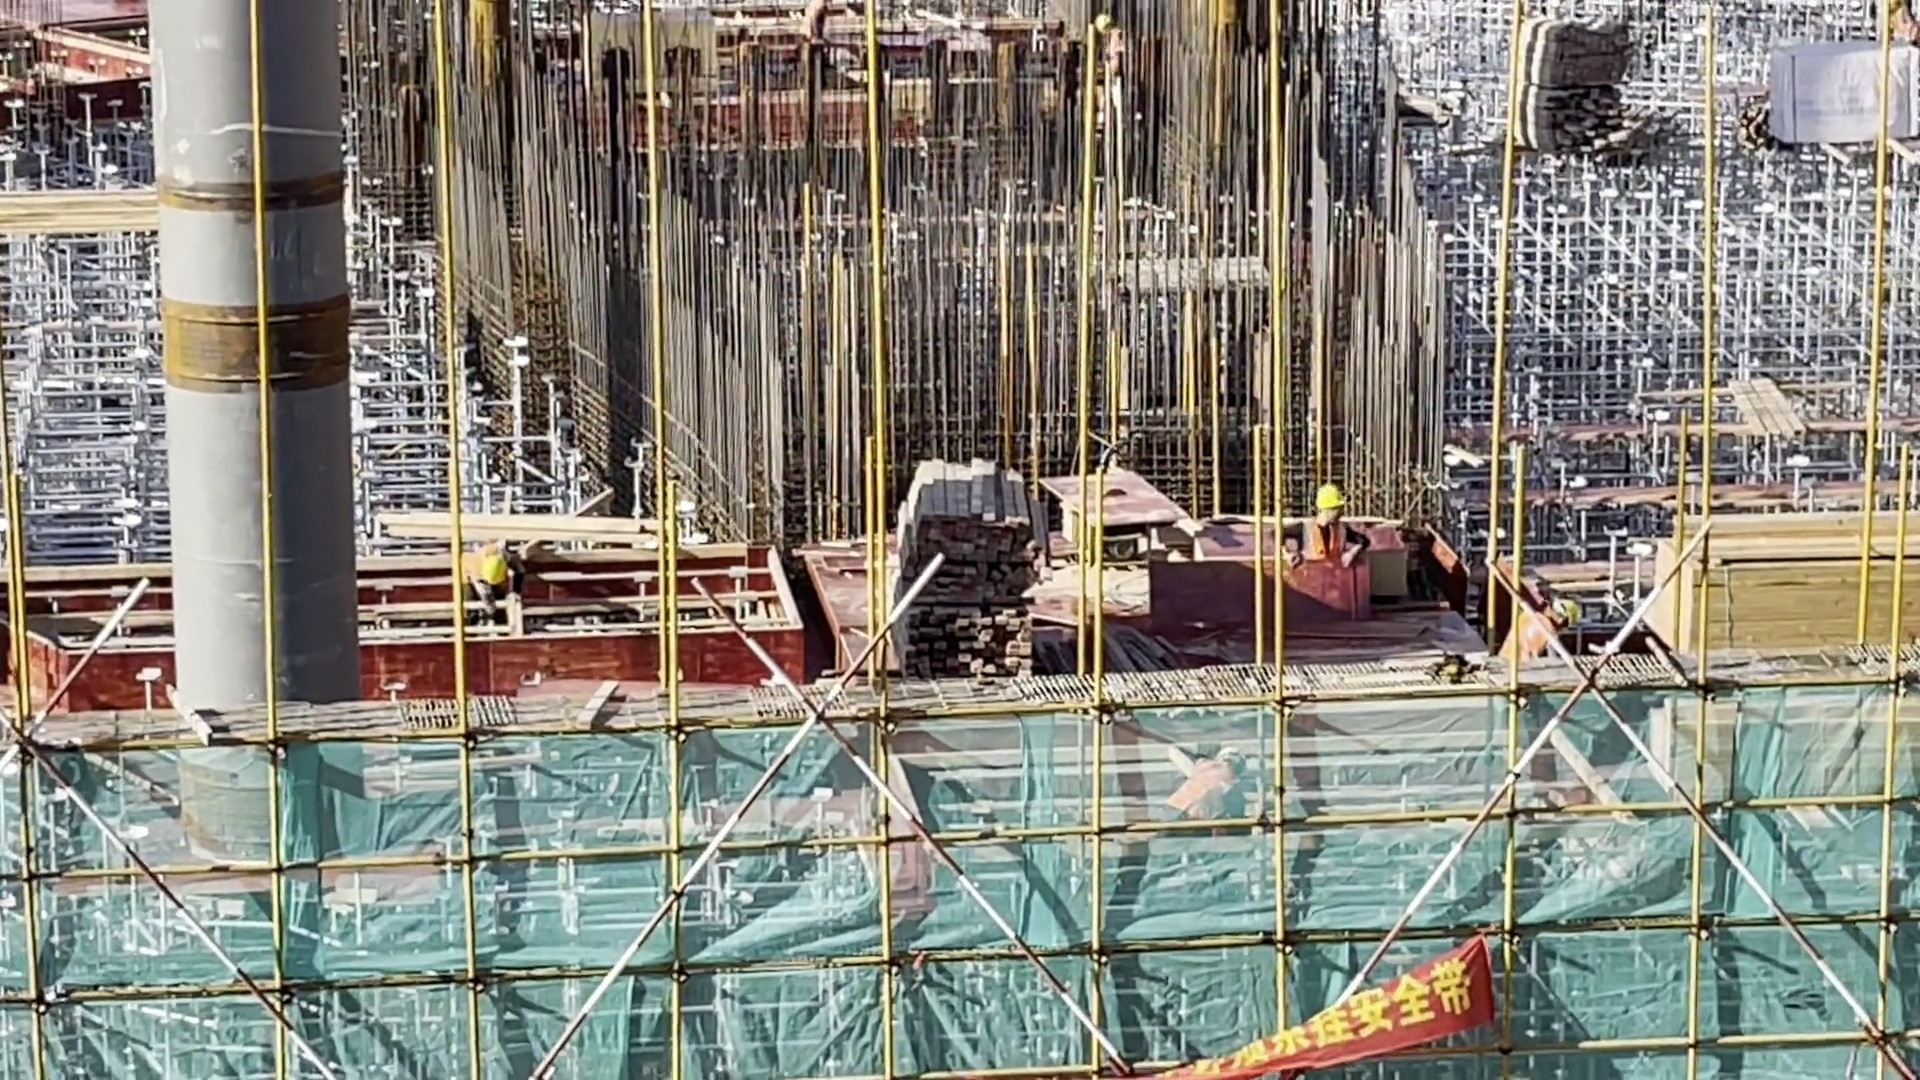helmet: (1311, 478, 1354, 515), (477, 552, 510, 589)
person: (1270, 475, 1374, 580), (459, 537, 517, 617)
slogan: (1146, 935, 1536, 1080)
vest: (1303, 519, 1349, 561)
wood: (1647, 490, 1920, 667), (886, 438, 1047, 697)
